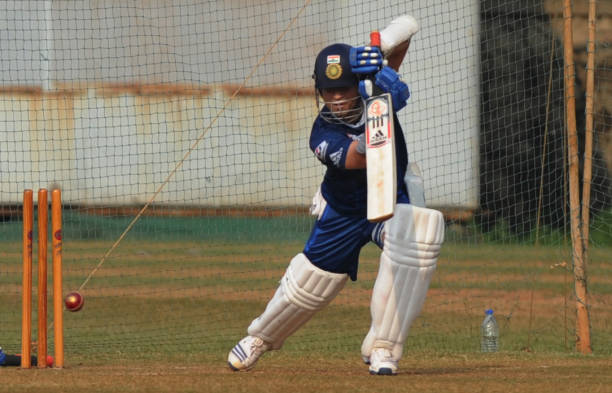bottom left: (361, 209, 380, 229)
bottom right: (388, 200, 406, 223)
top left: (356, 94, 373, 114)
top right: (378, 89, 398, 110)
